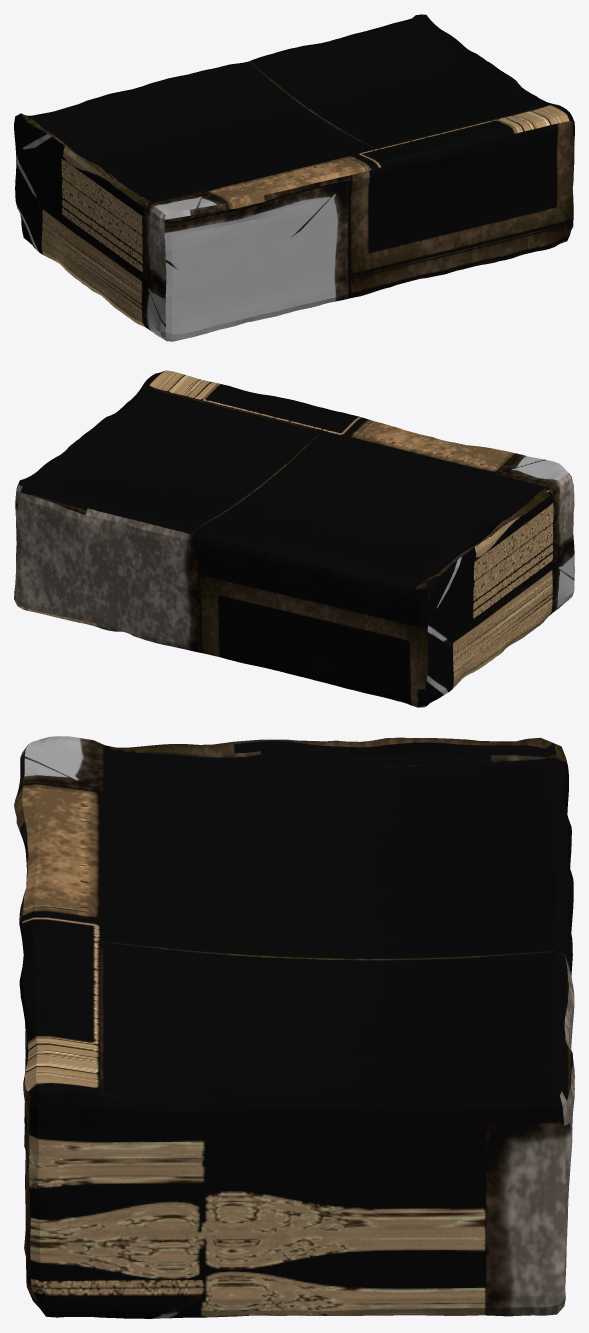
File: CigarBox2.fbx
The picture shows the model from 3 angles, top to bottom: view 1: azimuth 30°, elevation 25°; view 2: azimuth 150°, elevation 25°; view 3: azimuth 270°, elevation 25°; orthographic projection. The views are drawn at different scales.
Parts seen in each view (by area): view 1: Object_2; view 2: Object_2; view 3: Object_2.
Boxes of the visible parts, x1=… form: Object_2: x1=14, y1=14, x2=574, y2=341; Object_2: x1=14, y1=370, x2=574, y2=707; Object_2: x1=14, y1=736, x2=574, y2=1318.
Size of the model in its own units: 22750 by 7023 by 14823.
